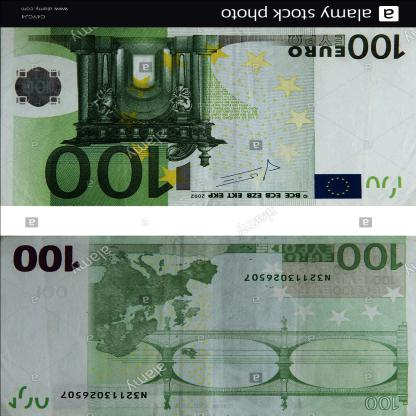euro_banknote: (1, 237, 416, 416), (2, 28, 416, 206)
